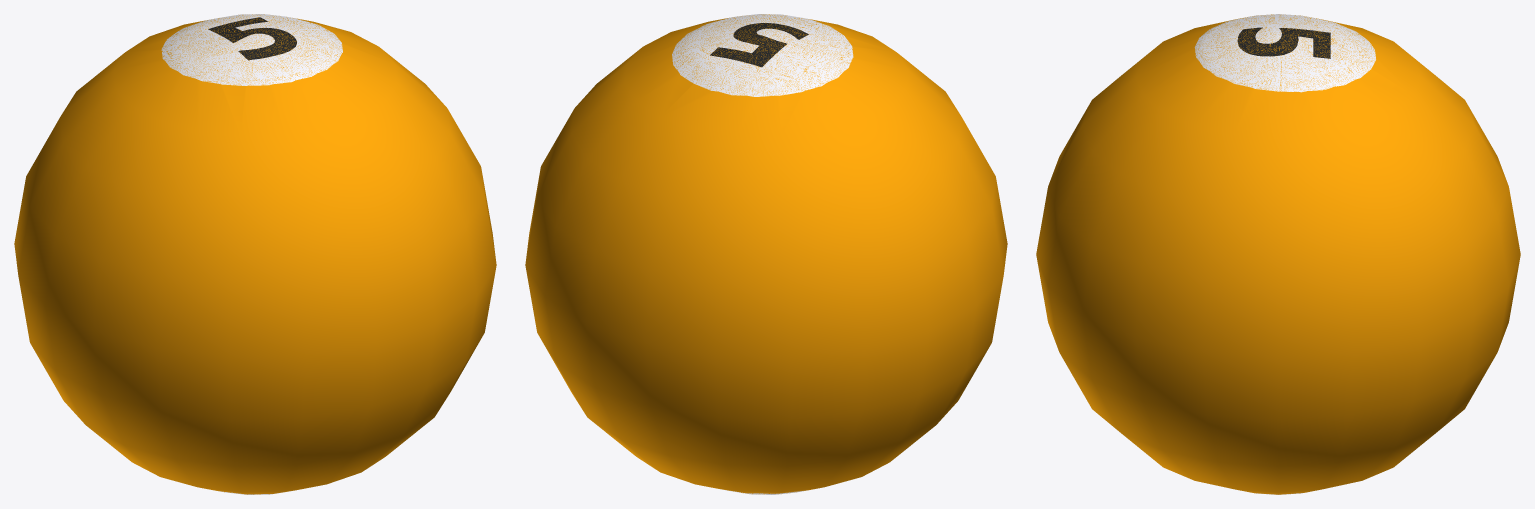
The model's file is 5ball.dae.
The picture shows the model from 3 angles, left to right: view 1: azimuth 30°, elevation 25°; view 2: azimuth 150°, elevation 25°; view 3: azimuth 270°, elevation 25°; orthographic projection.
Parts seen in each view (by area): view 1: Billiard_Ball__5_Orange (×3); view 2: Billiard_Ball__5_Orange (×3); view 3: Billiard_Ball__5_Orange (×3).
Part boxes in pixels (box(x1,y1,x2,y2)): Billiard_Ball__5_Orange (×3): box(14, 14, 496, 494); Billiard_Ball__5_Orange (×3): box(525, 14, 1007, 493); Billiard_Ball__5_Orange (×3): box(1036, 14, 1520, 494).
Size of the model in its own units: 1.58 by 1.58 by 1.58.
